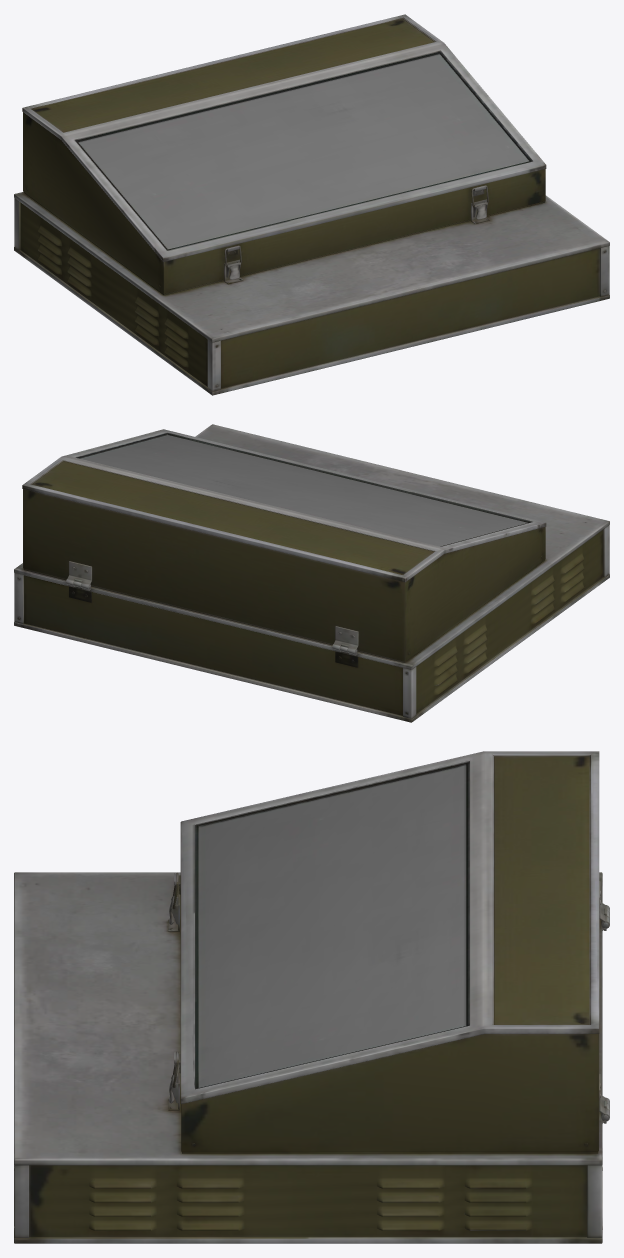
The model's file is console.glb.
3 views of the same model, one above another, from view 1: azimuth 30°, elevation 25°; view 2: azimuth 150°, elevation 25°; view 3: azimuth 270°, elevation 25° (orthographic). The views are drawn at different scales.
Parts seen in each view (by area): view 1: Hood_Glass, Deck, Hood • folded wedge casing and cheeks, Cabinet • uninterrupted front fascia, Hood • one-piece satin glazing surround, Transom • inset enamel crown, Starboard • drawn louvre pressing, Base • continuous protective edging, Glazing • charcoal locking bead, Hood • compression seal, Cabinet • folded corner angle, Transom • thin bedding seam; view 2: Hood • folded wedge casing and cheeks, Cabinet • rear closure, Hood_Glass, Deck, Transom • inset enamel crown, Starboard • drawn louvre pressing, Hood • one-piece satin glazing surround, Base • continuous protective edging, Glazing • charcoal locking bead, Hood • compression seal, Cabinet • folded corner angle.001, Transom • thin bedding seam (+3 smaller); view 3: Hood_Glass, Deck, Port • drawn louvre pressing, Hood • folded wedge casing and cheeks, Transom • inset enamel crown, Hood • one-piece satin glazing surround, Base • continuous protective edging, Glazing • charcoal locking bead, Cabinet • folded corner angle.002, Cabinet • folded corner angle.003, Transom • thin bedding seam, Hood • compression seal.
Part boxes in pixels (x1,y1,x2,y2): Hood_Glass: (78, 54, 528, 249); Deck: (14, 192, 609, 342); Hood • folded wedge casing and cheeks: (23, 112, 545, 294); Cabinet • uninterrupted front fascia: (221, 248, 599, 388); Hood • one-piece satin glazing surround: (22, 14, 546, 262); Transom • inset enamel crown: (32, 19, 434, 132); Starboard • drawn louvre pressing: (20, 203, 207, 386); Base • continuous protective edging: (14, 247, 609, 395); Glazing • charcoal locking bead: (75, 51, 532, 250); Hood • compression seal: (23, 192, 545, 295); Cabinet • folded corner angle: (207, 340, 220, 391); Transom • thin bedding seam: (31, 18, 435, 132); Hood • folded wedge casing and cheeks: (23, 489, 545, 661); Cabinet • rear closure: (24, 575, 402, 715); Hood_Glass: (80, 435, 527, 546); Deck: (14, 424, 609, 669); Transom • inset enamel crown: (32, 461, 434, 574); Starboard • drawn louvre pressing: (416, 530, 603, 713); Hood • one-piece satin glazing surround: (22, 429, 546, 582); Base • continuous protective edging: (14, 574, 609, 722); Glazing • charcoal locking bead: (76, 433, 531, 546); Hood • compression seal: (23, 559, 545, 662); Cabinet • folded corner angle.001: (403, 667, 416, 718); Transom • thin bedding seam: (31, 460, 435, 575); Hood_Glass: (198, 765, 466, 1087); Deck: (14, 872, 602, 1165); Port • drawn louvre pressing: (29, 1165, 587, 1236); Hood • folded wedge casing and cheeks: (181, 1034, 598, 1151); Transom • inset enamel crown: (494, 756, 589, 1024); Hood • one-piece satin glazing surround: (180, 751, 599, 1104); Base • continuous protective edging: (14, 1164, 602, 1243); Glazing • charcoal locking bead: (195, 761, 469, 1089); Cabinet • folded corner angle.002: (14, 1165, 29, 1237); Cabinet • folded corner angle.003: (587, 1165, 601, 1237); Transom • thin bedding seam: (493, 755, 590, 1024); Hood • compression seal: (182, 1152, 598, 1153).
Bounding box in the file's own units: 2 × 0.6772 × 1.74.
1 material, 1 textured.
